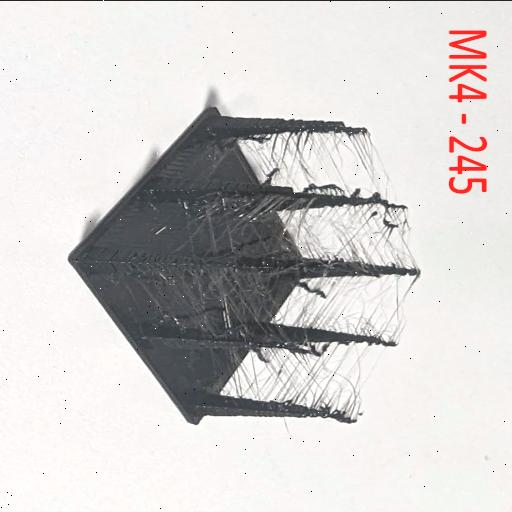stringing: (145, 204, 336, 265), (115, 275, 288, 336), (230, 136, 402, 197), (276, 204, 424, 269), (250, 346, 386, 416), (270, 277, 422, 338), (220, 350, 360, 415)
